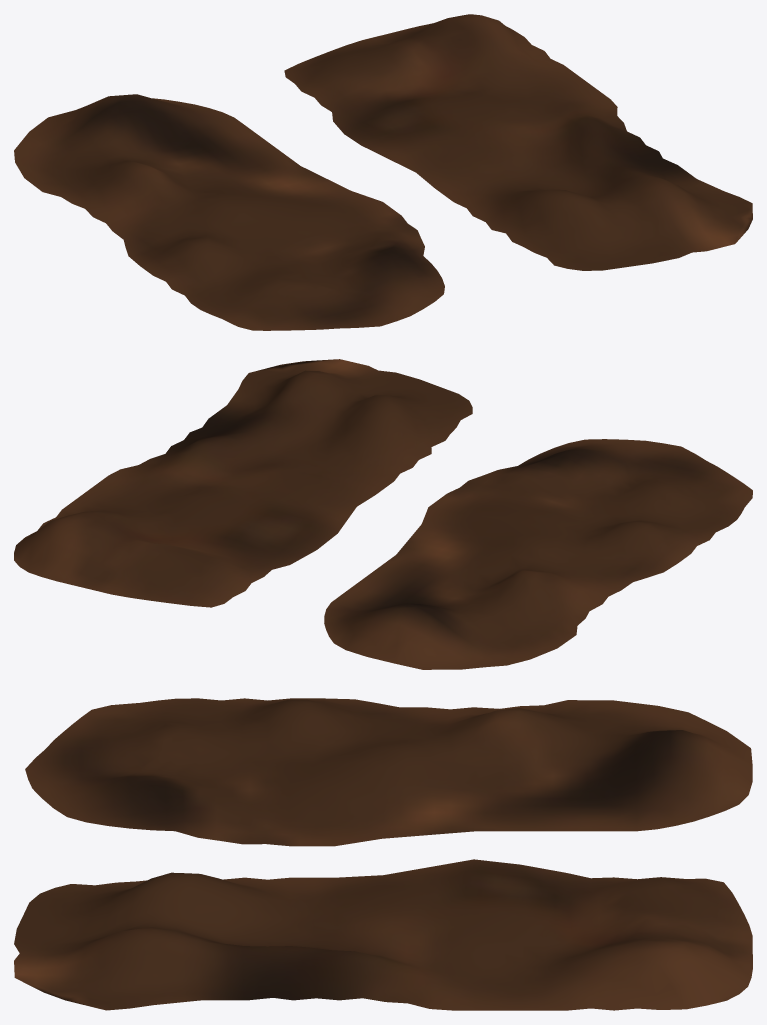
The model's file is Garlic1.fbx.
The picture shows the model from 3 angles, top to bottom: view 1: azimuth 30°, elevation 25°; view 2: azimuth 150°, elevation 25°; view 3: azimuth 270°, elevation 25°; orthographic projection. The views are drawn at different scales.
Visible parts, largest first — view 1: 1; view 2: 1; view 3: 1.
Boxes of the visible parts, left/top/right/bottom form: 1: left=14, top=14, right=752, bottom=330; 1: left=14, top=359, right=752, bottom=669; 1: left=14, top=698, right=752, bottom=1010.
Size of the model in its own units: 174 by 9.57 by 175.
